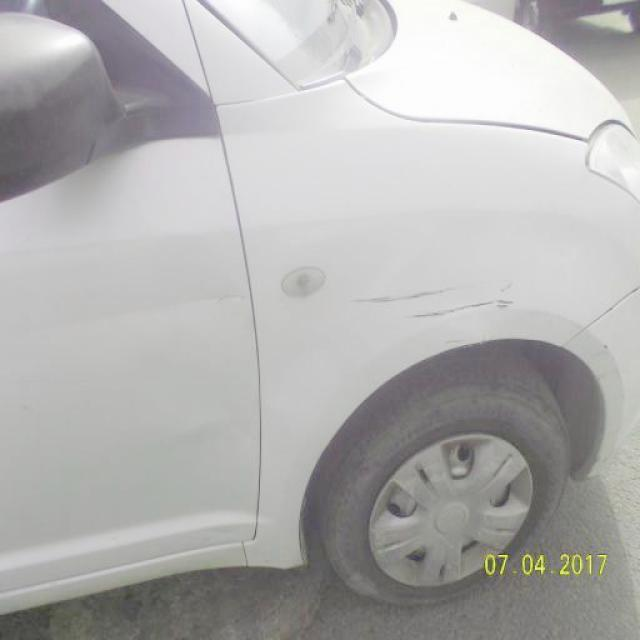car damage: (141, 334, 275, 501), (2, 284, 248, 348), (404, 281, 523, 331), (347, 277, 463, 316), (12, 373, 116, 390), (12, 397, 43, 424)
